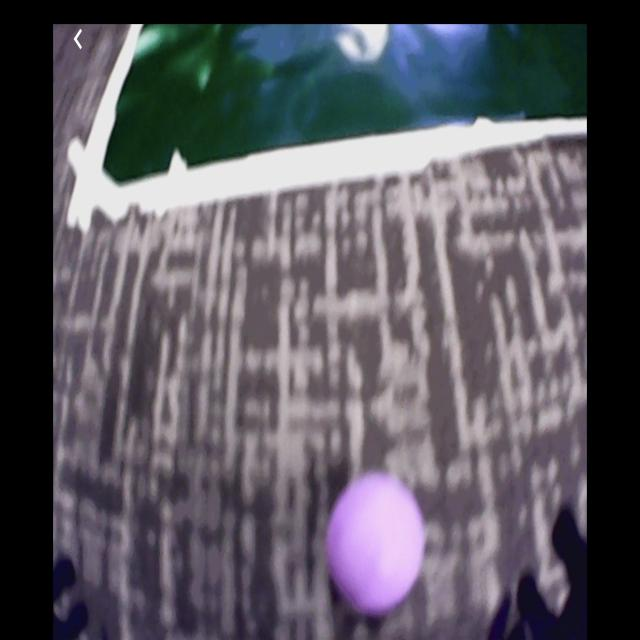ball: (330, 475, 430, 614)
